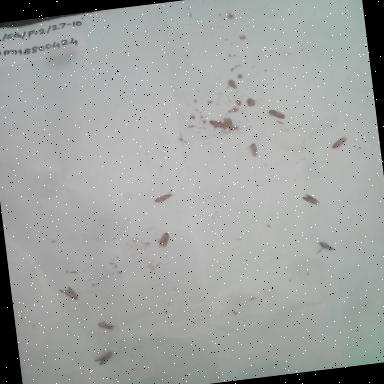pbw: (90, 349, 116, 370), (62, 282, 84, 306), (92, 317, 118, 336), (328, 129, 350, 151), (208, 116, 232, 132), (152, 188, 176, 204), (300, 191, 322, 208), (317, 237, 338, 254), (154, 230, 172, 249), (266, 106, 286, 122), (246, 140, 262, 158)
